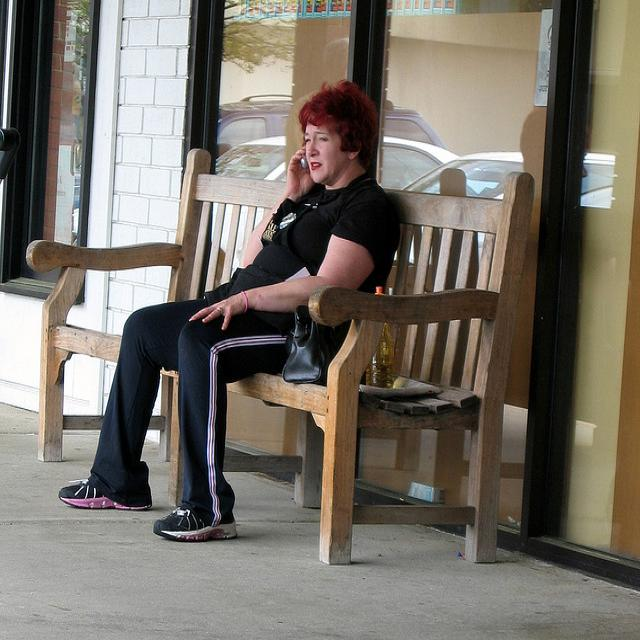Vehicle: (216, 93, 449, 159), (264, 135, 462, 191), (406, 151, 528, 199)
